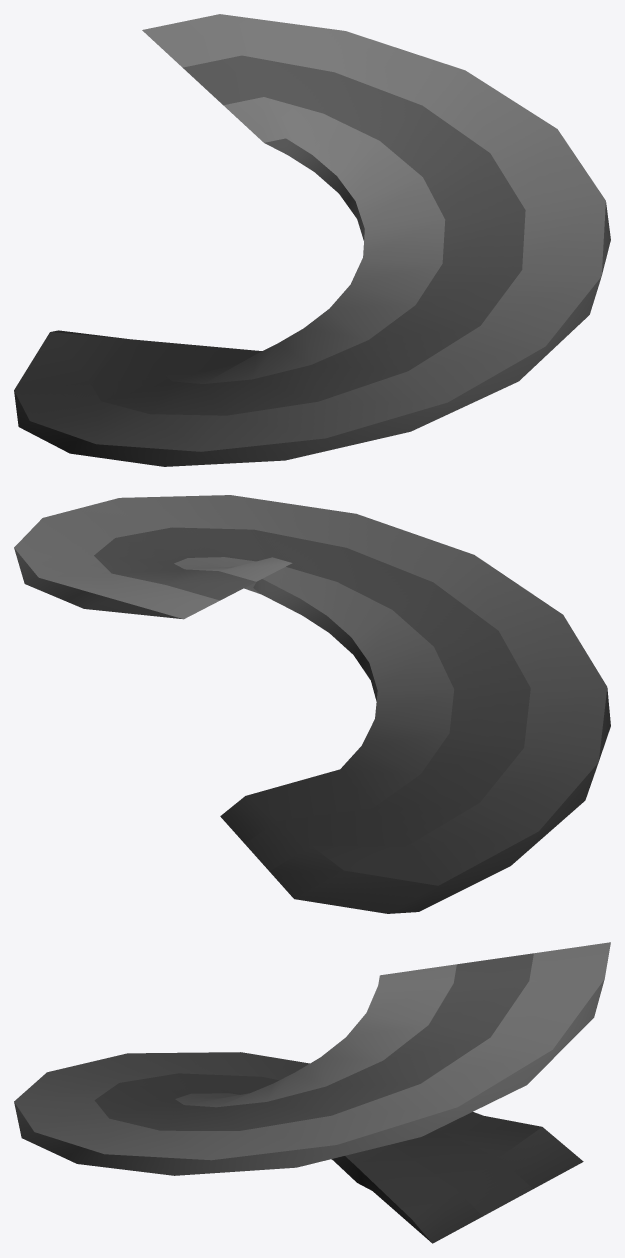
File: spring.fbx
3 views of the same model, one above another, from view 1: azimuth 30°, elevation 25°; view 2: azimuth 150°, elevation 25°; view 3: azimuth 270°, elevation 25° (orthographic).
Parts seen in each view (by area): view 1: Cube.004; view 2: Cube.004; view 3: Cube.004.
Part boxes in pixels (bbox=[...]): Cube.004: bbox=[14, 14, 610, 466]; Cube.004: bbox=[14, 495, 610, 913]; Cube.004: bbox=[14, 942, 610, 1243].
Size of the model in its own units: 16.25 by 8.69 by 16.26.
